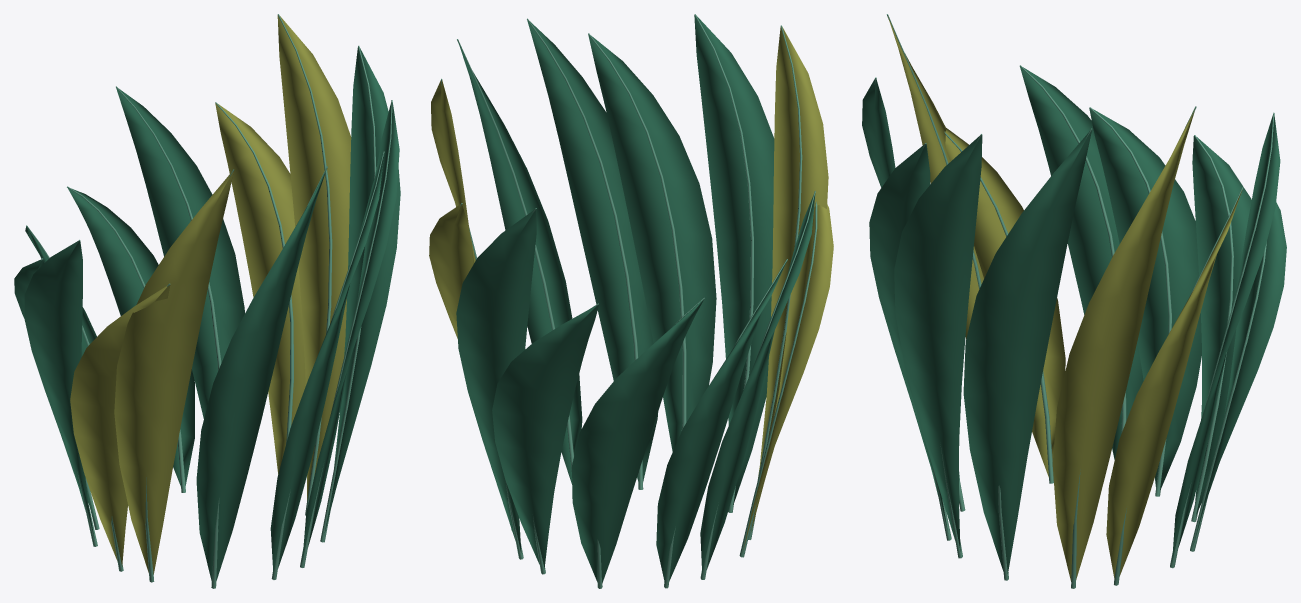
File: thalassa_kelp.glb
3 renders of one model, left to right at view 1: azimuth 30°, elevation 25°; view 2: azimuth 150°, elevation 25°; view 3: azimuth 270°, elevation 25°, orthographic. The views are drawn at different scales.
Parts seen in each view (by area): view 1: thalassa_kelp; view 2: thalassa_kelp; view 3: thalassa_kelp.
Boxes of the visible parts, x1,y1,x2,y2 form: thalassa_kelp: (14,14,400,588); thalassa_kelp: (429,14,833,588); thalassa_kelp: (862,14,1286,588).
Size of the model in its own units: 6.96 by 9.02 by 6.99.
